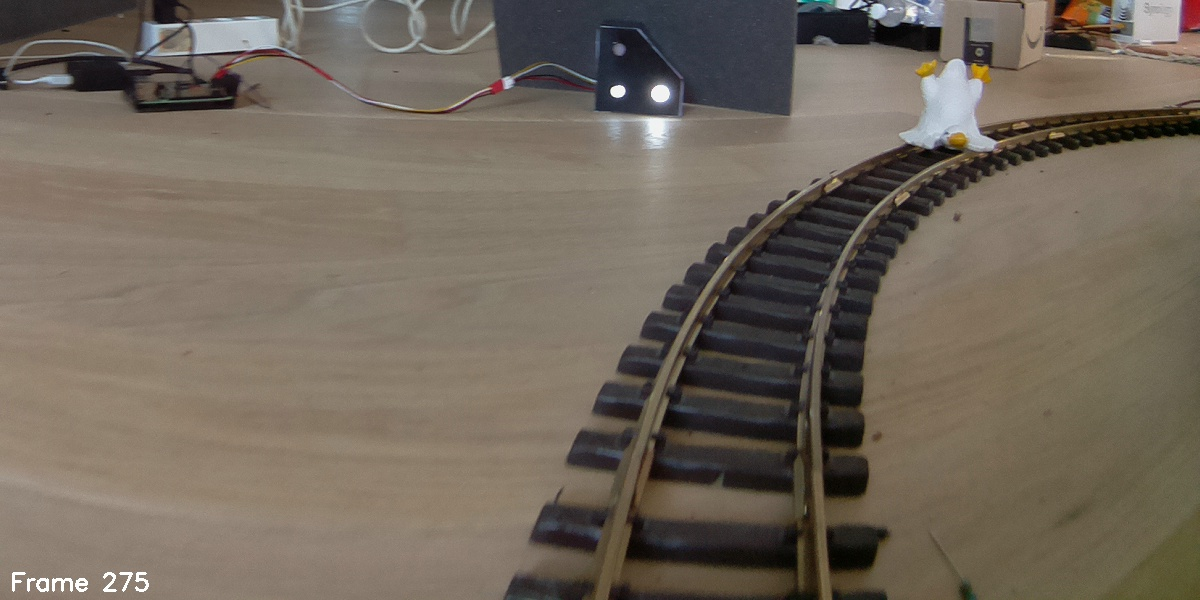Ente: (898, 54, 999, 154)
Halt: (594, 24, 682, 116)
